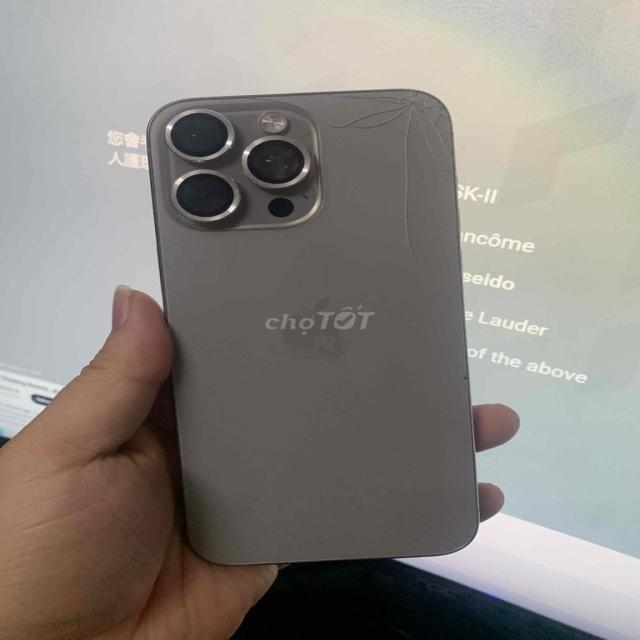gen_15: (145, 88, 479, 568)
